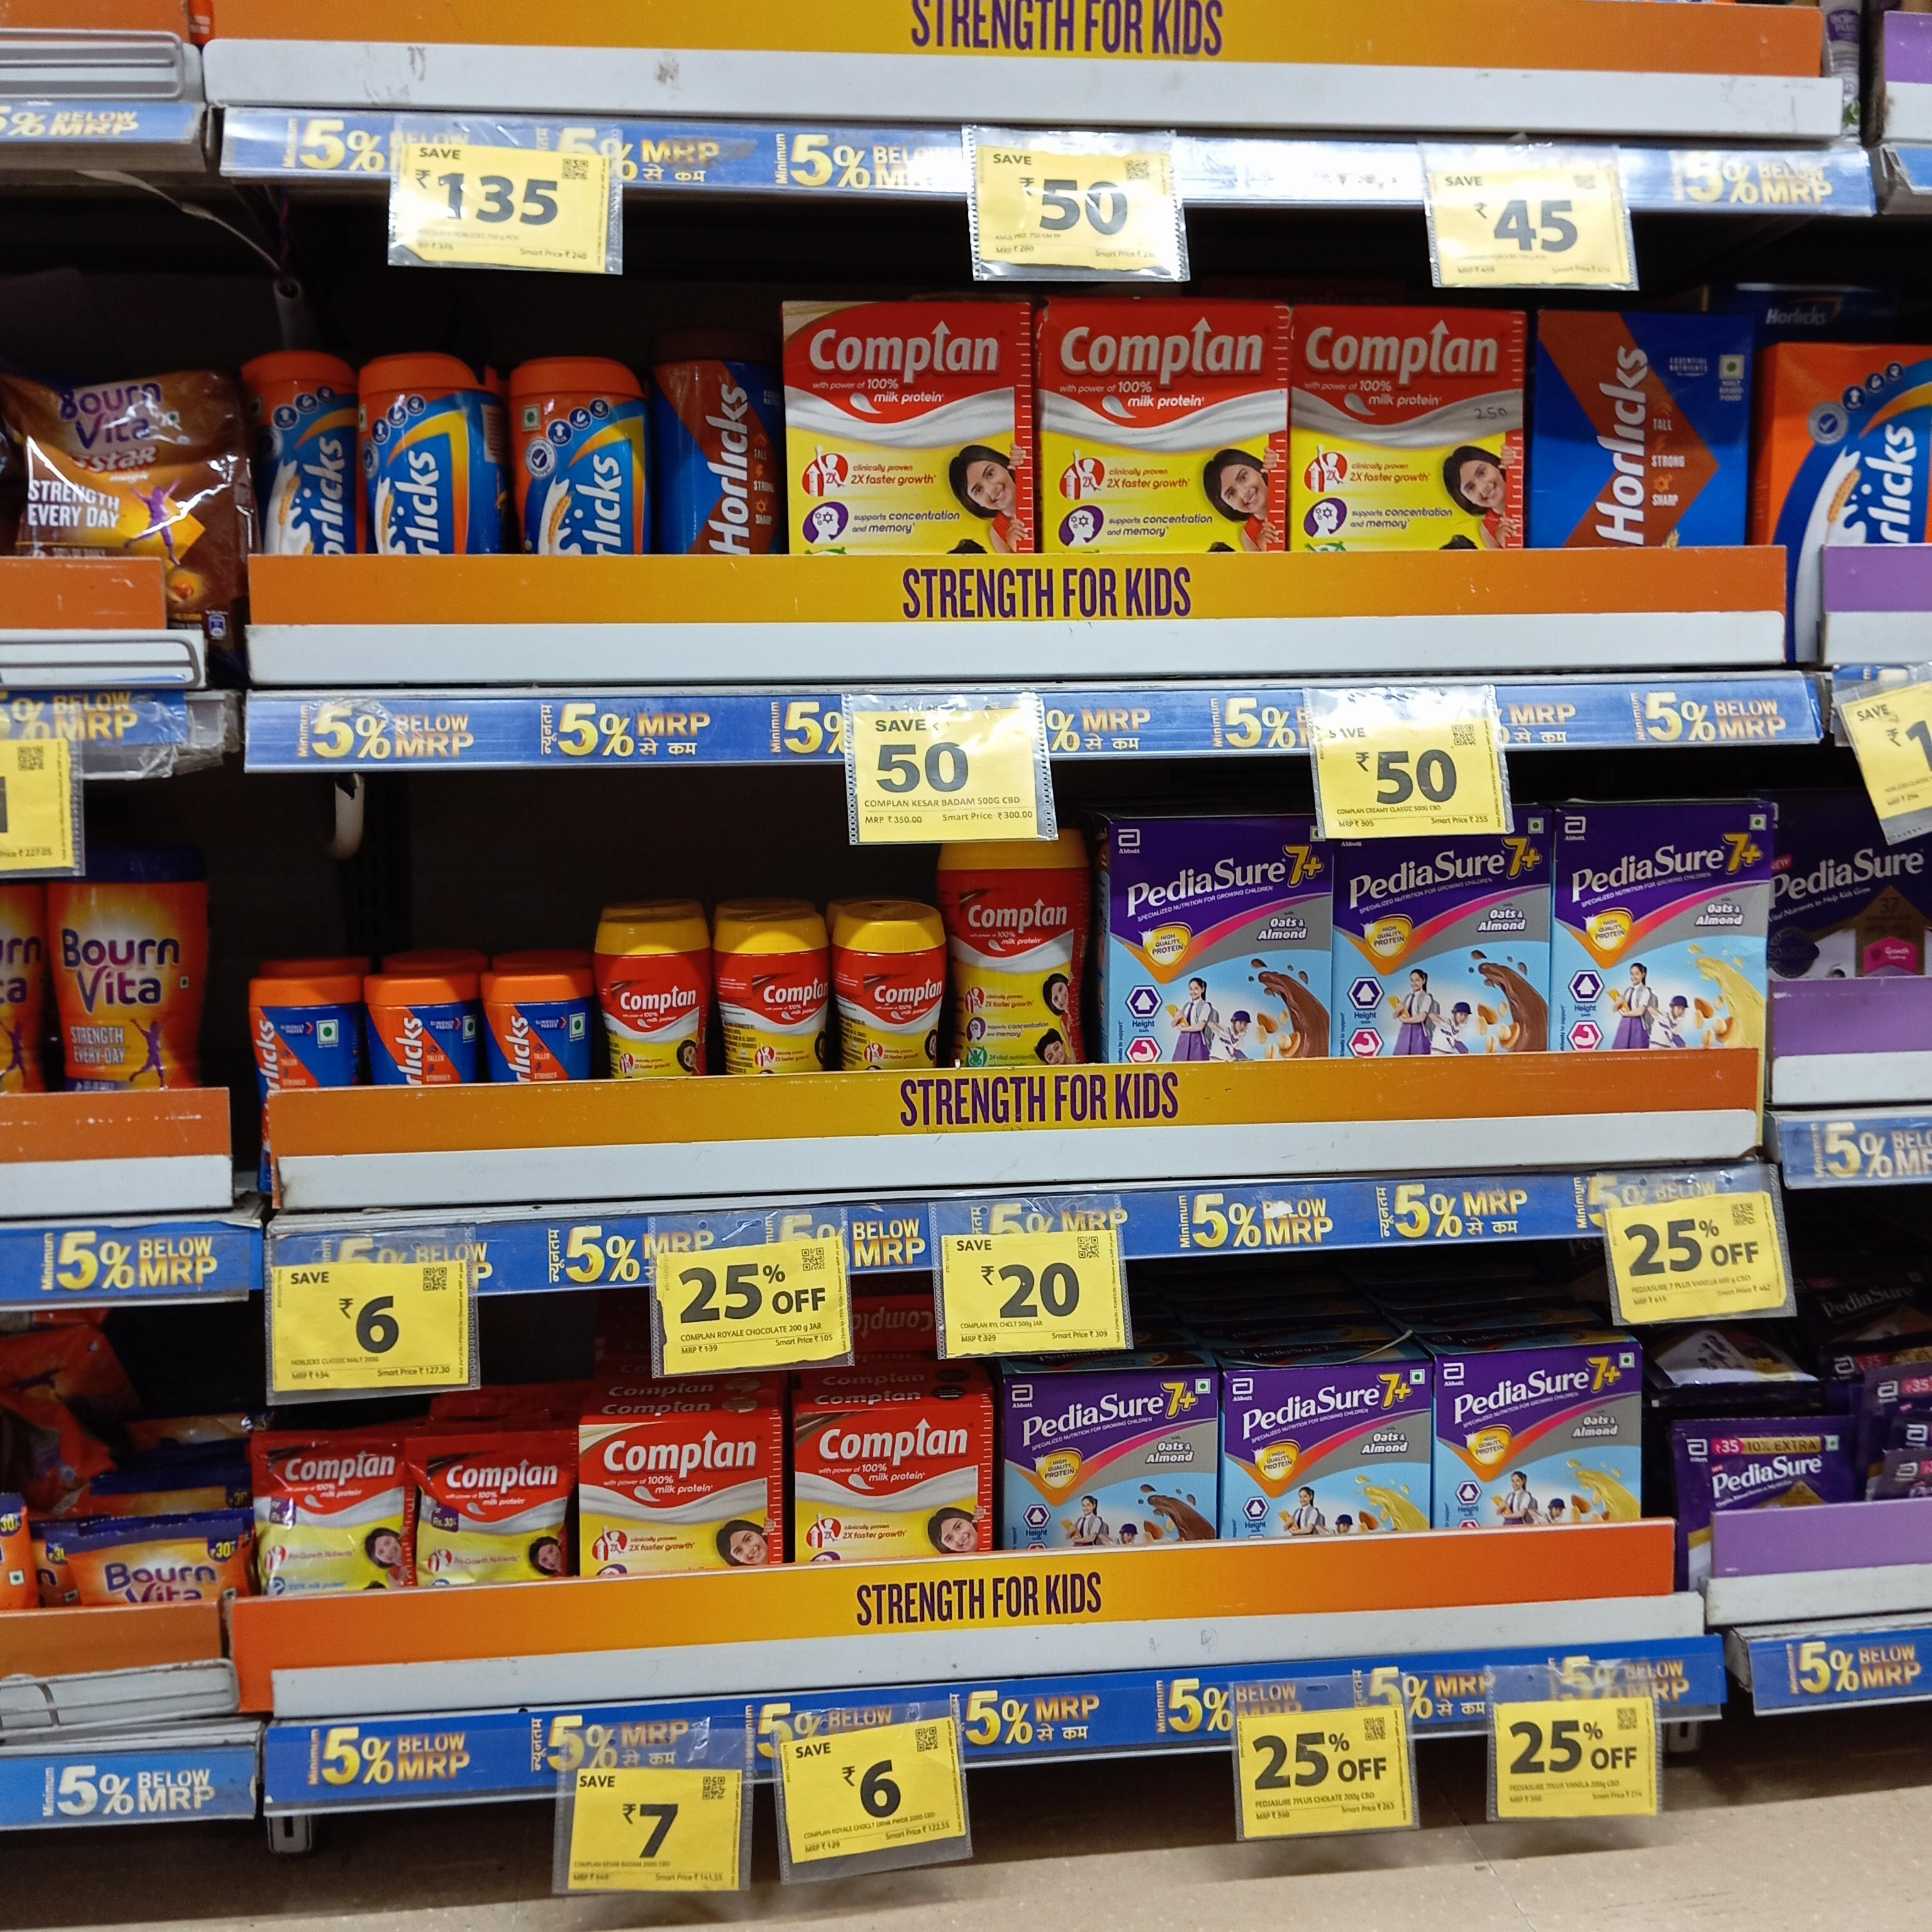BOURN_VITA_500_G_JAR: (53, 847, 200, 1095)
BOURN_VITA_FIVE_STAR_MAGIC_500_G_POUCH: (11, 350, 237, 642)
COMPLAN_CHOCOLATE_200_GMS_JAR: (605, 916, 706, 1081), (747, 904, 835, 1079), (862, 909, 947, 1079)
COMPLAN_CHOCOLATE_200_GMS_PACK: (796, 1410, 989, 1575)
COMPLAN_CHOCOLATE_500_GMS_JAR: (954, 826, 1076, 1070)
COMPLAN_KESAR_BADAM_200_GMS_PACK: (580, 1415, 778, 1580)
COMPLAN_KESAR_BADAM_500_GMS_PACK: (778, 299, 1028, 552)
HORLICK_CHOCOLATE_200_G_JAR: (640, 313, 778, 566)
HORLICK_CHOCOLATE_500_G_PACK: (1539, 308, 1748, 554)
HORLICK_CLASSIC_MALT_200_G_JAR: (504, 354, 639, 557), (361, 349, 476, 563), (239, 352, 357, 554)
HORLICK_CLASSIC_MALT_500_G_PACK: (1769, 340, 1932, 543)
PEDIASURE_7_PLUS_CHOCOLATE_400_G_PACK: (1109, 817, 1332, 1065), (1341, 833, 1548, 1062), (1001, 1373, 1215, 1553)
